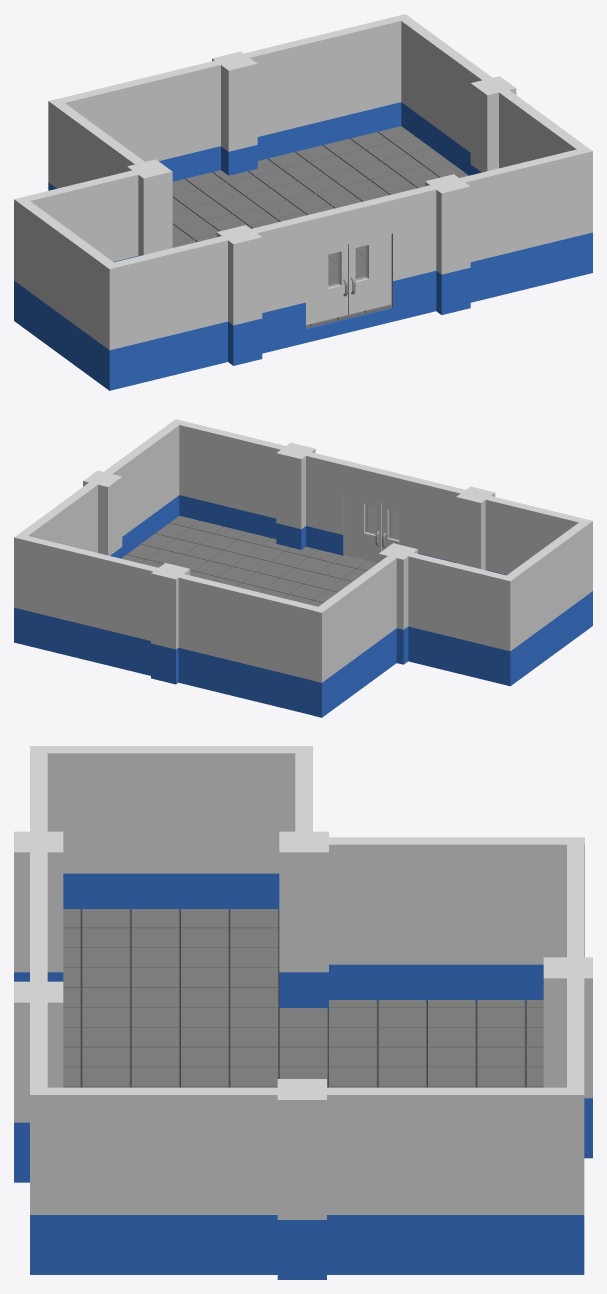
File: Workshop.fbx
3 renders of one model, top to bottom at view 1: azimuth 30°, elevation 25°; view 2: azimuth 150°, elevation 25°; view 3: azimuth 270°, elevation 25°, orthographic. The views are drawn at different scales.
Visible parts, largest first — view 1: Workshop_Floor, W_Wall_7, W_Wall_2, W_Wall_3, W_Wall_1, W_Wall_6, W_Wall_10, W_Wall_5, W_Wall_9, W_Wall_4, W_Wall_8, W_Stone_Pillars_1 (+6 smaller); view 2: W_Wall_7, W_Wall_6, W_Wall_9, Workshop_Floor, W_Wall_8, W_Wall_1, W_Wall_2, W_Wall_10, W_Wall_4, W_Wall_3, W_Stone_Pillars_4, W_Stone_Pillars_2 (+6 smaller); view 3: Workshop_Floor, W_Wall_4, W_Wall_5, W_Wall_10, W_Wall_8, W_Stone_Pillars_5, W_Stone_Pillars_3, W_Stone_Pillars_2, W_Stone_Pillars_1, W_Wall_7, W_Stone_Pillars_4, W_Wall_2 (+4 smaller).
Boxes of the visible parts, x1=… form: Workshop_Floor: x1=172, y1=126, x2=468, y2=328; W_Wall_7: x1=244, y1=14, x2=410, y2=160; W_Wall_2: x1=251, y1=185, x2=436, y2=353; W_Wall_3: x1=103, y1=236, x2=227, y2=390; W_Wall_1: x1=459, y1=149, x2=582, y2=302; W_Wall_6: x1=59, y1=60, x2=220, y2=181; W_Wall_10: x1=20, y1=201, x2=113, y2=386; W_Wall_5: x1=401, y1=18, x2=492, y2=175; W_Wall_9: x1=14, y1=170, x2=138, y2=324; W_Wall_4: x1=499, y1=90, x2=592, y2=275; W_Wall_8: x1=48, y1=98, x2=144, y2=190; W_Stone_Pillars_1: x1=216, y1=225, x2=262, y2=365; W_Wall_7: x1=14, y1=534, x2=158, y2=675; W_Wall_6: x1=178, y1=574, x2=317, y2=715; W_Wall_9: x1=408, y1=552, x2=515, y2=686; Workshop_Floor: x1=122, y1=515, x2=377, y2=606; W_Wall_8: x1=313, y1=556, x2=396, y2=717; W_Wall_1: x1=179, y1=421, x2=285, y2=538; W_Wall_2: x1=306, y1=452, x2=465, y2=562; W_Wall_10: x1=507, y1=522, x2=587, y2=681; W_Wall_4: x1=104, y1=419, x2=184, y2=557; W_Wall_3: x1=485, y1=496, x2=592, y2=629; W_Stone_Pillars_4: x1=151, y1=563, x2=190, y2=684; W_Stone_Pillars_2: x1=276, y1=442, x2=315, y2=549; Workshop_Floor: x1=63, y1=909, x2=543, y2=1087; W_Wall_4: x1=30, y1=1087, x2=277, y2=1274; W_Wall_5: x1=327, y1=1087, x2=566, y2=1274; W_Wall_10: x1=47, y1=746, x2=295, y2=912; W_Wall_8: x1=329, y1=837, x2=584, y2=1003; W_Stone_Pillars_5: x1=277, y1=1079, x2=326, y2=1279; W_Stone_Pillars_3: x1=279, y1=831, x2=328, y2=1011; W_Stone_Pillars_2: x1=14, y1=981, x2=63, y2=1182; W_Stone_Pillars_1: x1=14, y1=831, x2=63, y2=981; W_Wall_7: x1=567, y1=978, x2=584, y2=1274; W_Stone_Pillars_4: x1=543, y1=957, x2=592, y2=1158; W_Wall_2: x1=30, y1=852, x2=47, y2=981.
Size of the model in its own units: 84.83 by 20.12 by 58.66.
